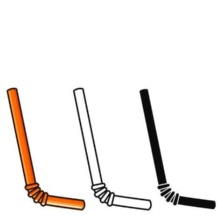drinking_straw: (70, 84, 157, 214), (2, 84, 88, 214), (135, 85, 219, 213)
